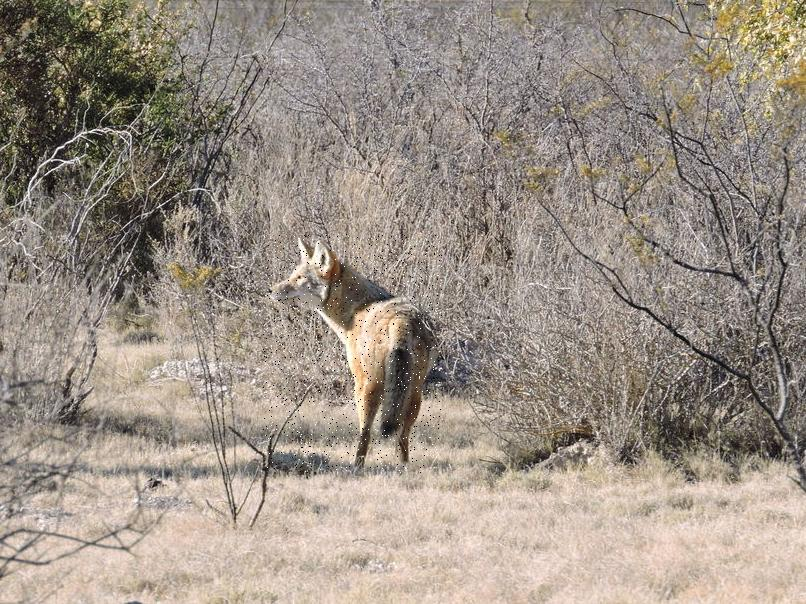Coyote: (263, 235, 442, 474)
